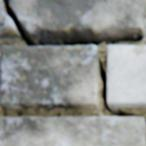brick: (1, 46, 99, 109), (0, 118, 145, 145), (108, 47, 145, 108)
broken_brick: (10, 0, 144, 38), (0, 0, 21, 39)
crack: (0, 0, 144, 48), (99, 58, 145, 122)
